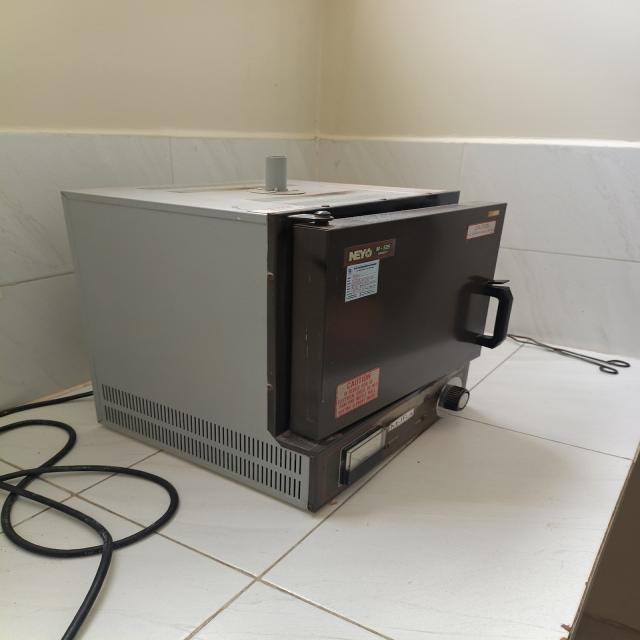Mufla Electrica de Laboratorio: (62, 157, 512, 510)
